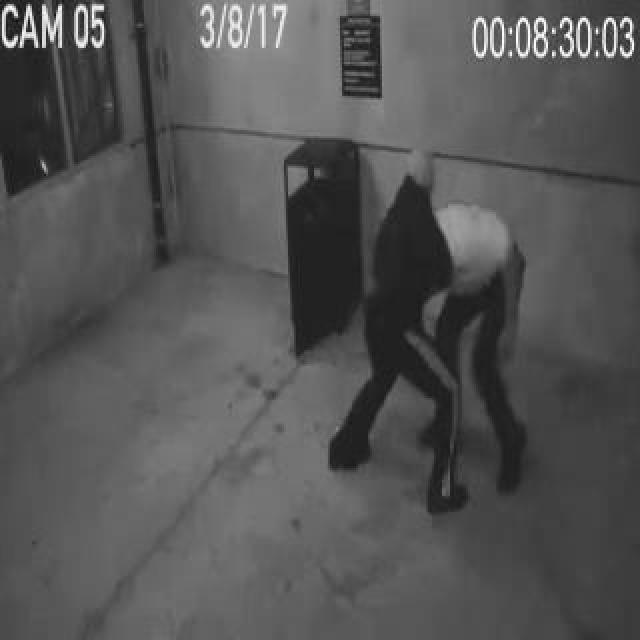fight: (343, 121, 537, 531)
